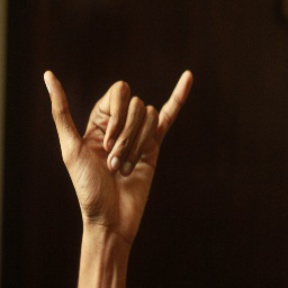J: (38, 52, 195, 221)
